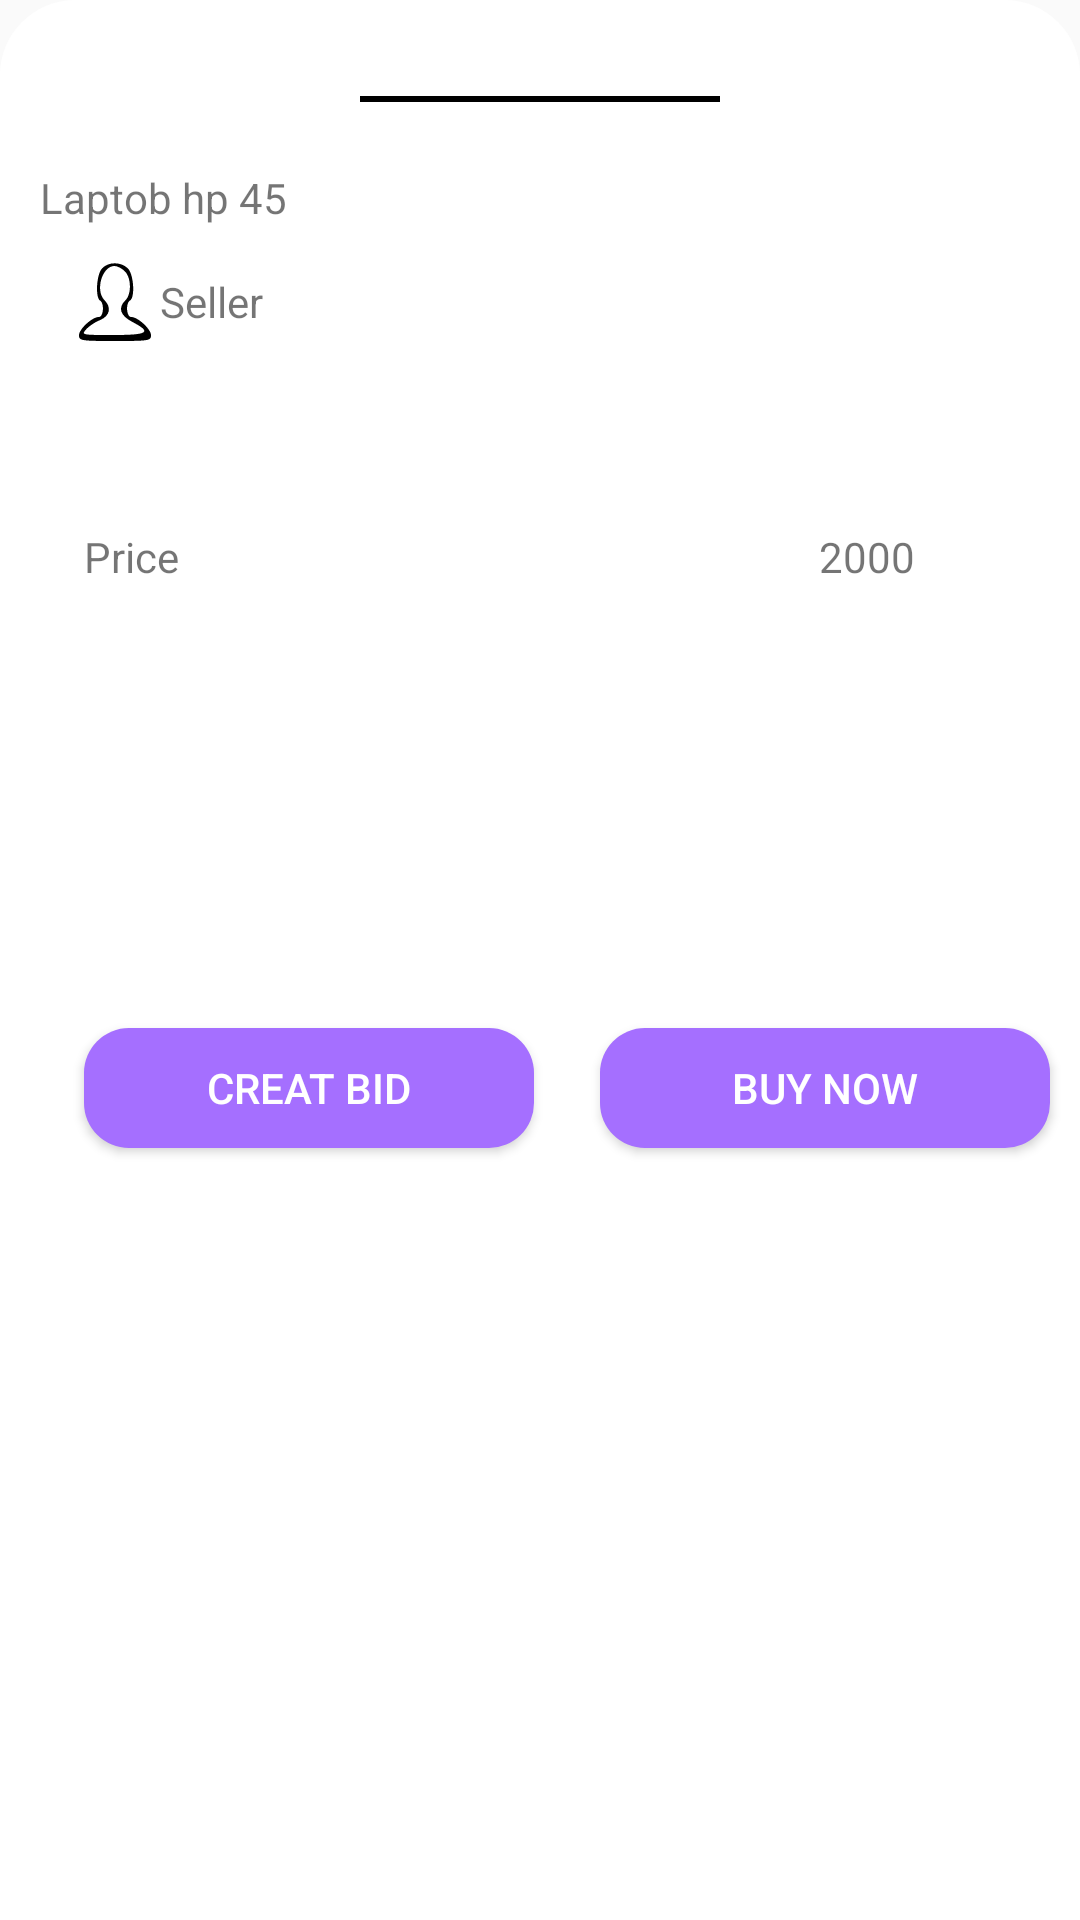

Icon bounding boxes for this 1080*1920 phone screenshot, format {"left": x1, "top": y1, "right": x2, "bottom": y2}:
person: {"left": 79, "top": 263, "right": 151, "bottom": 341}
